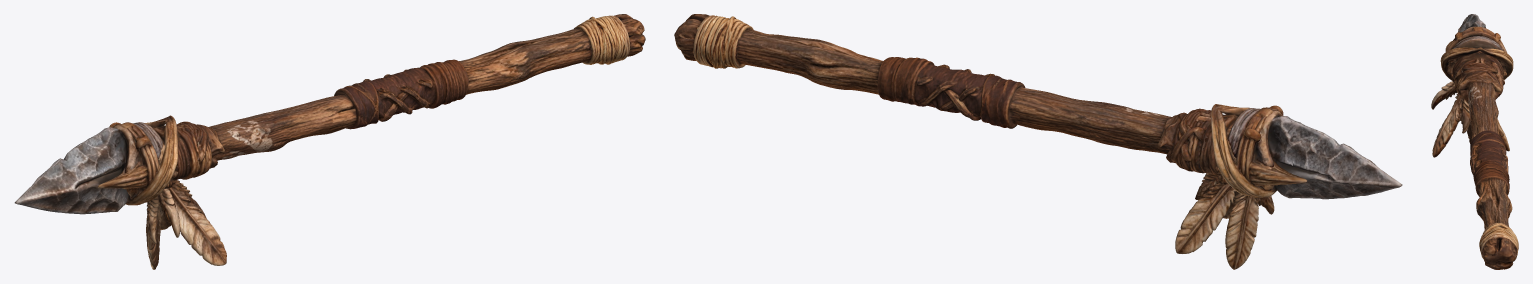
File: SK_Spear_Tripo.glb
3 views of the same model, side by side, from view 1: azimuth 30°, elevation 25°; view 2: azimuth 150°, elevation 25°; view 3: azimuth 270°, elevation 25° (orthographic). The views are drawn at different scales.
Parts seen in each view (by area): view 1: SK_Spear_Tripo; view 2: SK_Spear_Tripo; view 3: SK_Spear_Tripo.
Boxes of the visible parts, left/top/right/bottom form: SK_Spear_Tripo: left=14, top=14, right=645, bottom=269; SK_Spear_Tripo: left=674, top=14, right=1402, bottom=269; SK_Spear_Tripo: left=1431, top=14, right=1518, bottom=269.
Size of the model in its own units: 0.9825 by 0.2227 by 0.1506.
1 material, 1 textured.
